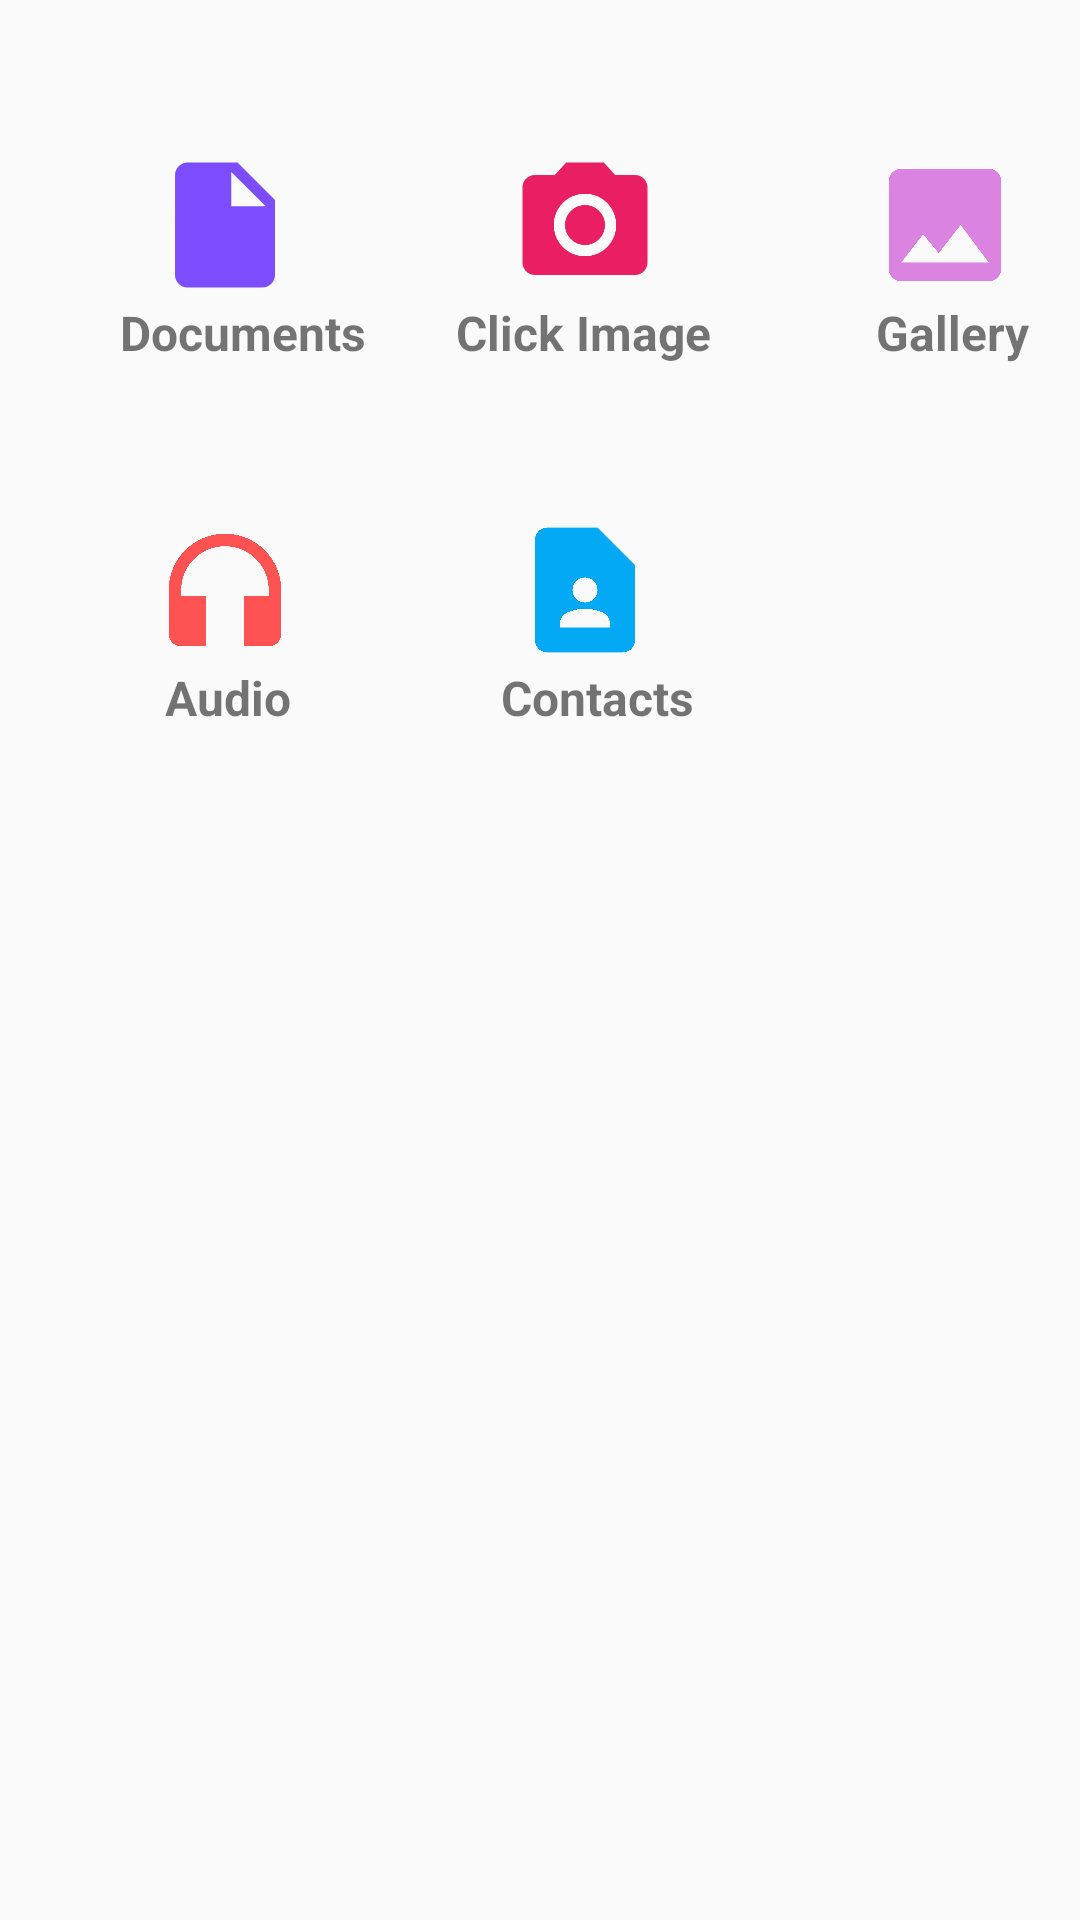

Where icons sit on this 1080w x 1920h app screen, as (x1, y1, x2, y2):
camera: (522, 162, 648, 275)
